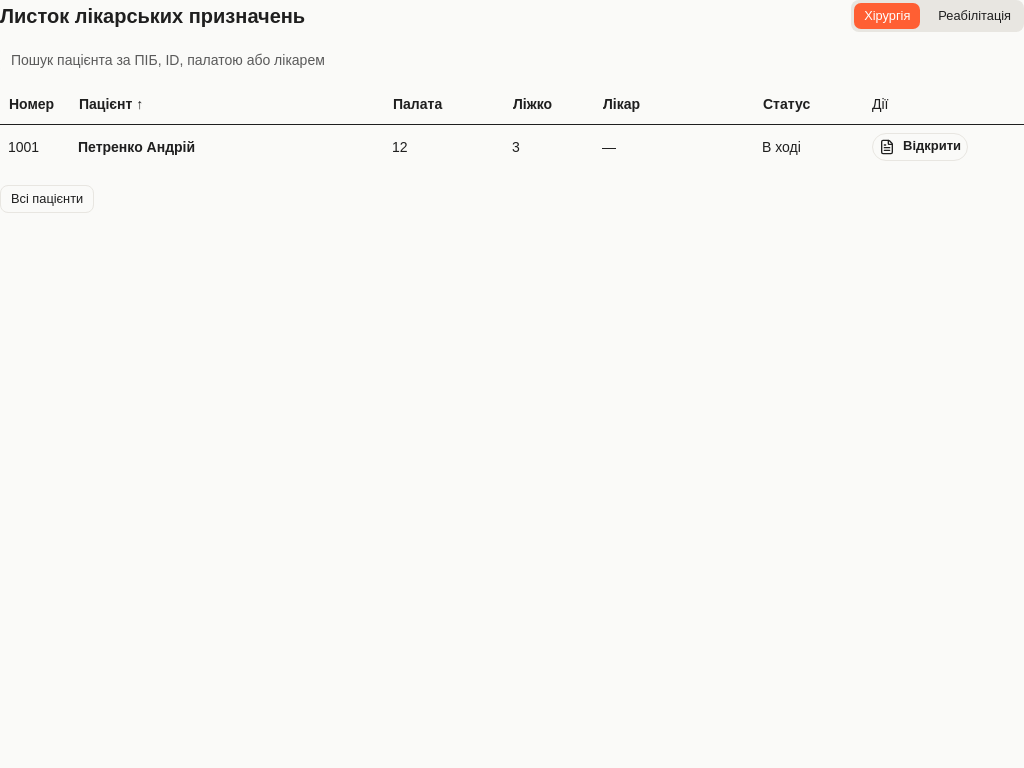
it: PrescriptionPage list-create gating › hides «Створити листок» without the permission
Click the button "Відкрити": [920, 146] box [872,132,968,160]
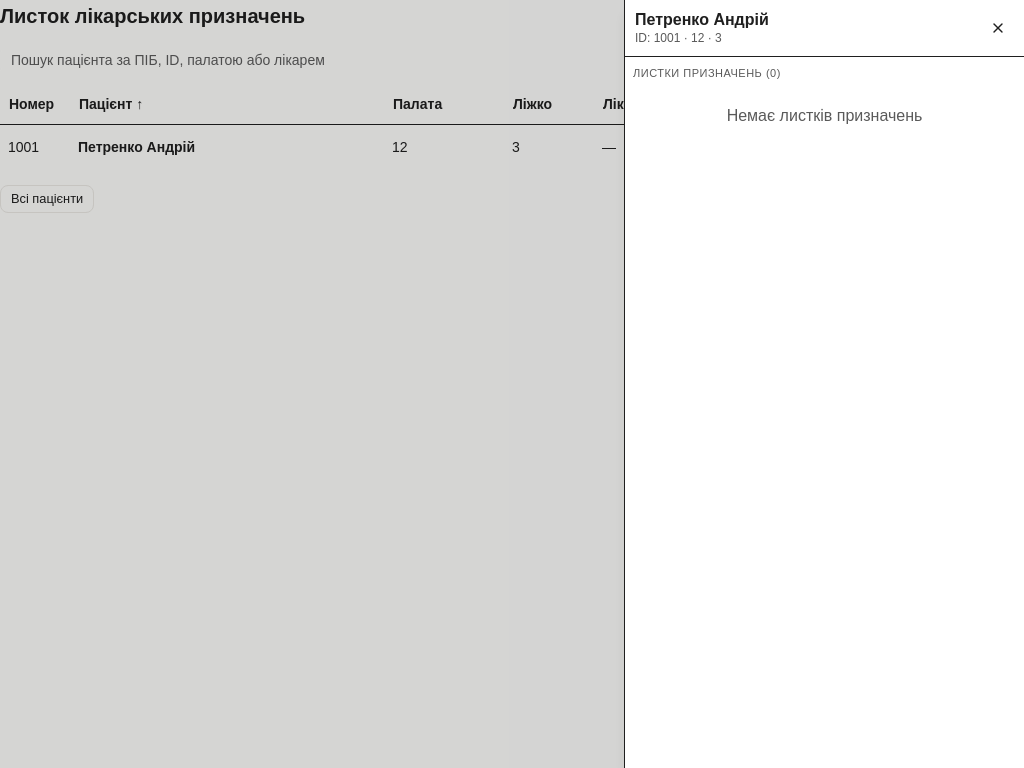
Now the text "Листки призначень (0)" is shown, box [633,67,781,79]
Now the text "Немає листків призначень" is shown, box [727,106,922,124]
